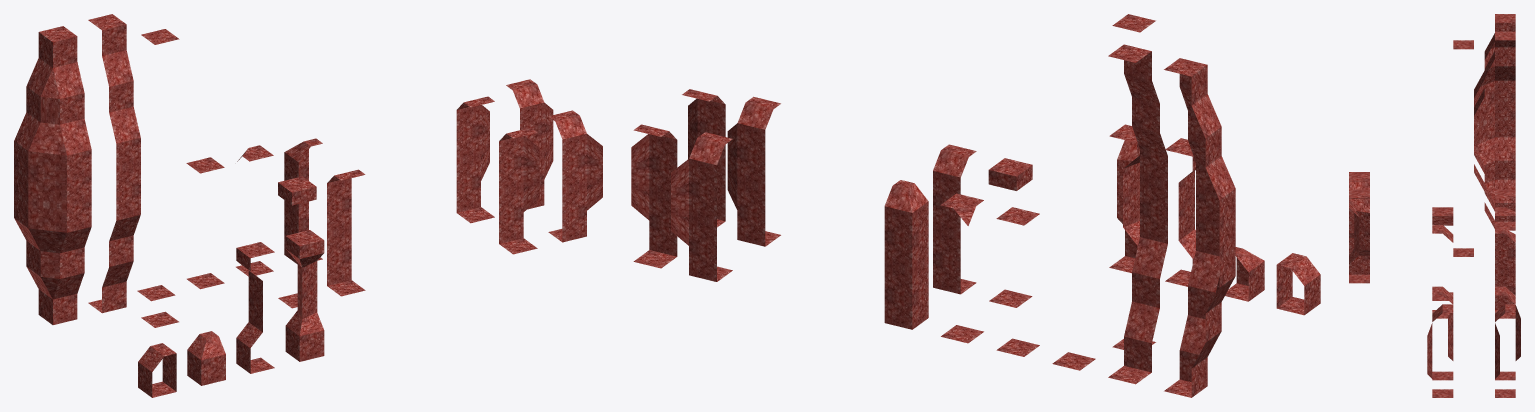
File: fleshTiles.glb
3 renders of one model, left to right at view 1: azimuth 30°, elevation 25°; view 2: azimuth 150°, elevation 25°; view 3: azimuth 270°, elevation 25°, orthographic. The views are drawn at different scales.
Visible parts, largest first — view 1: BigConnector-col, bigWall-col, Connector3-col, Connector-col, ColumnEdge-col., Connector2-col, wall-col, Connector4-col, column-col, wallCorner-col, lowCorner-col, low-col (+4 smaller); view 2: BigConnector-col, bigWall-col, wallCorner-col, Connector2-col, Connector-col, Connector4-col, wall-col, ColumnEdge-col., Connector3-col, low-col, column-col, lowRoof-col (+3 smaller); view 3: BigConnector-col, ColumnEdge-col., wallCorner-col, Connector-col, Connector3-col, Connector2-col, bigWall-col, column-col, Connector4-col, lowRoof-col, bigRoof-col, wall-col (+2 smaller).
Part boxes in pixels (x1,y1,x2,y2): BigConnector-col: (14, 26, 91, 324); bigWall-col: (88, 14, 140, 313); Connector3-col: (548, 110, 602, 242); Connector-col: (499, 127, 539, 254); ColumnEdge-col.: (285, 230, 324, 361); Connector2-col: (456, 96, 494, 223); wall-col: (327, 169, 365, 296); Connector4-col: (506, 79, 553, 209); column-col: (236, 242, 274, 373); wallCorner-col: (284, 138, 322, 264); lowCorner-col: (187, 331, 225, 385); low-col: (138, 343, 176, 397); BigConnector-col: (1164, 58, 1235, 397); bigWall-col: (1108, 44, 1167, 384); wallCorner-col: (884, 180, 928, 329); Connector2-col: (671, 132, 732, 281); Connector-col: (727, 96, 780, 246); Connector4-col: (631, 124, 677, 268); wall-col: (933, 144, 976, 294); ColumnEdge-col.: (1109, 124, 1139, 273); Connector3-col: (682, 89, 725, 227); low-col: (1276, 253, 1320, 315); column-col: (1165, 138, 1195, 286); lowRoof-col: (988, 158, 1032, 307); BigConnector-col: (1474, 14, 1515, 230); ColumnEdge-col.: (1349, 189, 1369, 283); wallCorner-col: (1495, 229, 1515, 318); Connector-col: (1432, 286, 1453, 380); Connector3-col: (1427, 304, 1453, 397); Connector2-col: (1495, 286, 1520, 380); bigWall-col: (1474, 31, 1515, 228); column-col: (1349, 172, 1369, 255); Connector4-col: (1495, 304, 1515, 397); lowRoof-col: (1432, 207, 1453, 300); bigRoof-col: (1453, 40, 1473, 256); wall-col: (1432, 225, 1453, 318).
Size of the model in its own units: 21.5 by 11 by 8.25.
2 materials, 2 textured.
